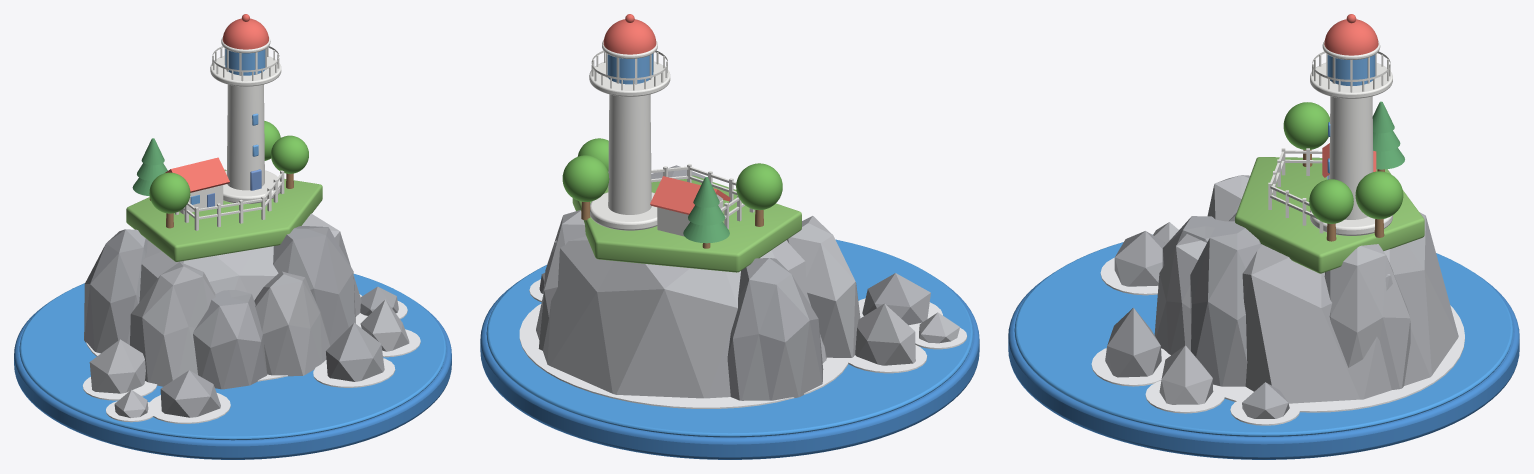
File: taejondae.glb
3 renders of one model, left to right at view 1: azimuth 30°, elevation 25°; view 2: azimuth 150°, elevation 25°; view 3: azimuth 270°, elevation 25°, orthographic. The views are drawn at different scales.
Parts seen in each view (by area): view 1: Sea_Top, Sea_Base, Grass_Top, Cliff_Chunk0, Cliff_Chunk4, Cliff_Chunk3, Cliff_Chunk5, Cliff_Chunk1, Cliff_Main, LH_Tower, SeaRock3, SeaRock0 (+15 smaller); view 2: Cliff_Main, Sea_Top, Sea_Base, Cliff_Chunk5, Grass_Top, Cliff_Chunk0, LH_Tower, Foam_Cliff, SeaRock0, SeaRock1, Cliff_Chunk2, Tree0_Crown.001 (+13 smaller); view 3: Sea_Top, Cliff_Main, Sea_Base, Grass_Top, Cliff_Chunk1, Cliff_Chunk2, LH_Tower, Cliff_Chunk4, SeaRock3, Foam_Cliff, SeaRock4, SeaRock1 (+14 smaller).
Boxes of the visible parts, <box> form: Sea_Top: <box>19,274,446,440</box>; Sea_Base: <box>14,300,451,459</box>; Grass_Top: <box>126,169,322,261</box>; Cliff_Chunk0: <box>130,262,215,386</box>; Cliff_Chunk4: <box>254,271,330,376</box>; Cliff_Chunk3: <box>193,290,267,389</box>; Cliff_Chunk5: <box>84,229,147,353</box>; Cliff_Chunk1: <box>273,226,355,345</box>; Cliff_Main: <box>139,213,361,316</box>; LH_Tower: <box>227,84,264,190</box>; SeaRock3: <box>326,322,384,381</box>; SeaRock0: <box>89,339,145,393</box>; Cliff_Main: <box>536,236,826,398</box>; Sea_Top: <box>486,239,973,437</box>; Sea_Base: <box>480,277,979,459</box>; Cliff_Chunk5: <box>727,258,823,400</box>; Grass_Top: <box>572,175,801,272</box>; Cliff_Chunk0: <box>787,216,860,357</box>; LH_Tower: <box>608,94,651,214</box>; Foam_Cliff: <box>519,304,848,408</box>; SeaRock0: <box>855,303,915,365</box>; SeaRock1: <box>862,273,930,325</box>; Cliff_Chunk2: <box>538,210,585,350</box>; Tree0_Crown.001: <box>736,163,782,210</box>; Sea_Top: <box>1014,234,1513,436</box>; Cliff_Main: <box>1229,212,1458,403</box>; Sea_Base: <box>1008,273,1519,459</box>; Grass_Top: <box>1235,157,1424,273</box>; Cliff_Chunk1: <box>1190,221,1261,386</box>; Cliff_Chunk2: <box>1324,244,1410,389</box>; LH_Tower: <box>1329,96,1373,219</box>; Cliff_Chunk4: <box>1154,234,1206,355</box>; SeaRock3: <box>1105,308,1161,377</box>; Foam_Cliff: <box>1164,305,1464,412</box>; SeaRock4: <box>1159,345,1213,404</box>; SeaRock1: <box>1114,231,1165,286</box>.
Size of the model in its own units: 6.4 by 5.08 by 6.4.
